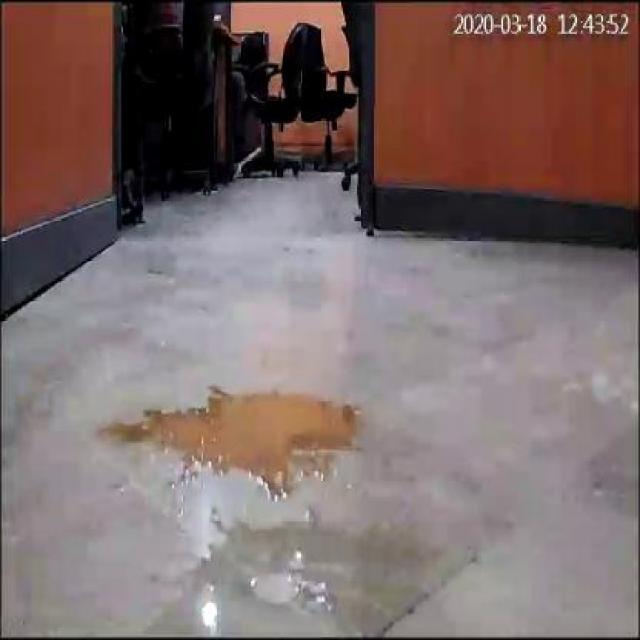spill: (147, 506, 438, 636), (114, 388, 374, 484)
